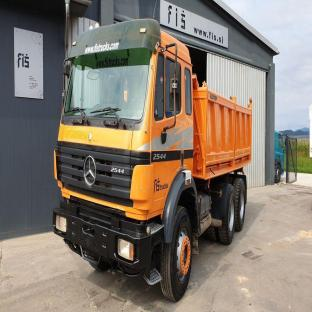Vehicle: (51, 27, 275, 302)
